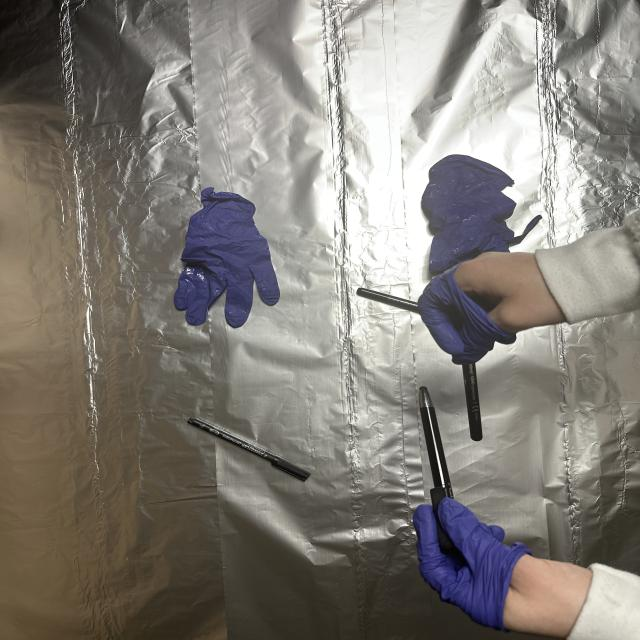glove_partial: (409, 496, 601, 640), (413, 248, 568, 362)
